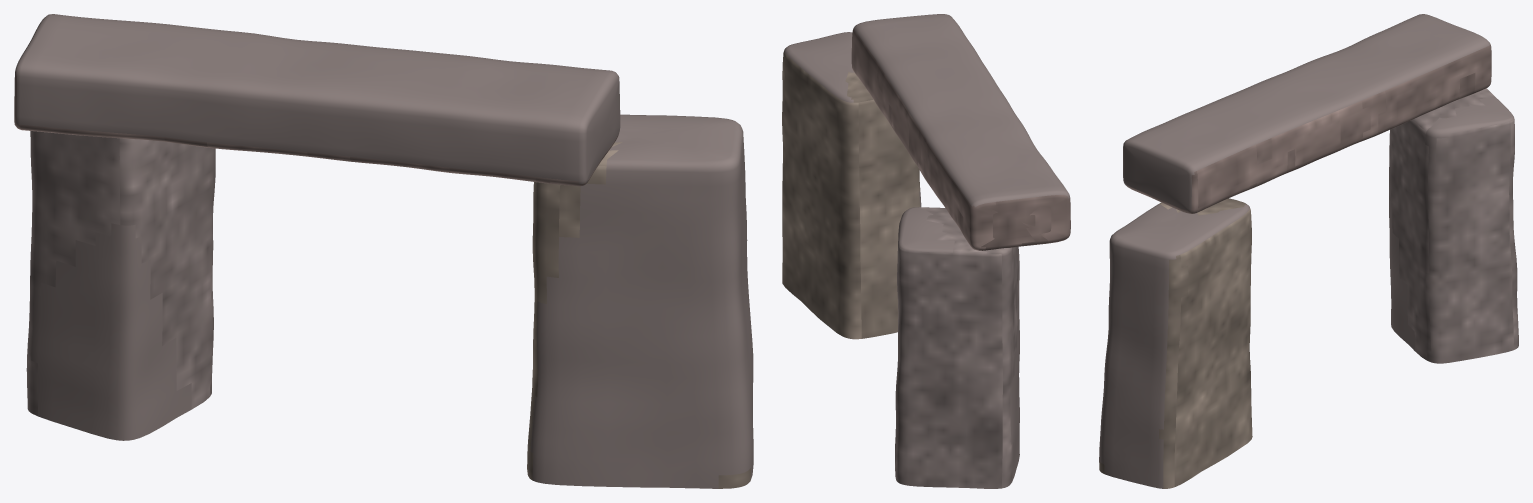
Rendered from VerHenge08.glb.
3 renders of one model, left to right at view 1: azimuth 30°, elevation 25°; view 2: azimuth 150°, elevation 25°; view 3: azimuth 270°, elevation 25°, orthographic. The views are drawn at different scales.
Visible parts, largest first — view 1: VerHenge08; view 2: VerHenge08; view 3: VerHenge08.
Part boxes in pixels (bbox=[...]): VerHenge08: bbox=[14, 14, 753, 488]; VerHenge08: bbox=[782, 14, 1070, 488]; VerHenge08: bbox=[1099, 14, 1518, 488].
Size of the model in its own units: 4.32 by 2.86 by 3.85.
Materials: 2 (1 with a texture image).
